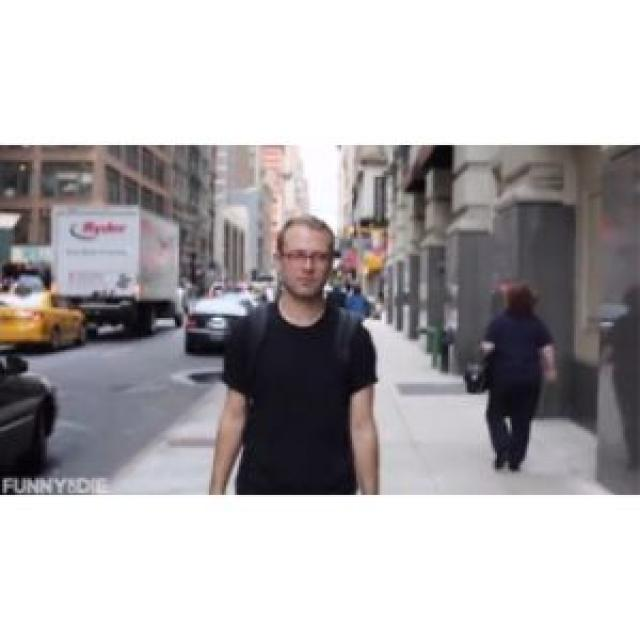nonfall: (196, 212, 410, 492), (476, 285, 560, 453)
